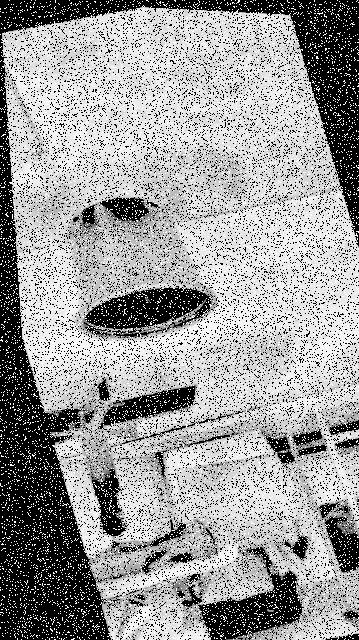pot: (67, 198, 216, 341)
